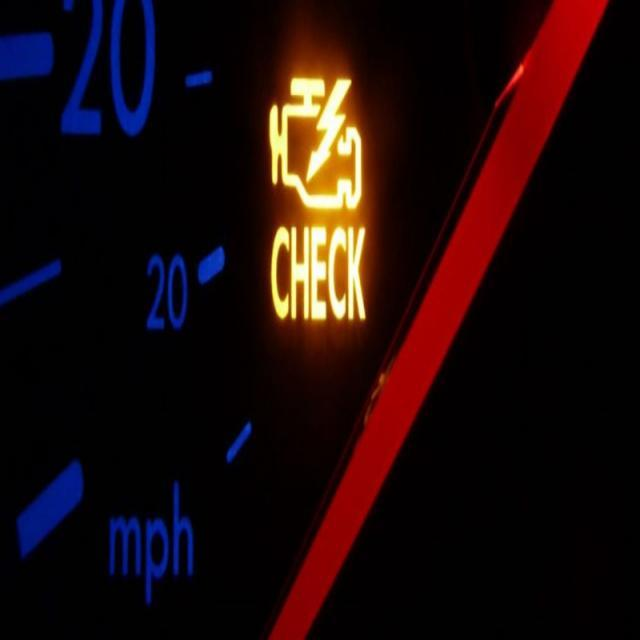EngineWarning: (264, 74, 362, 210)
